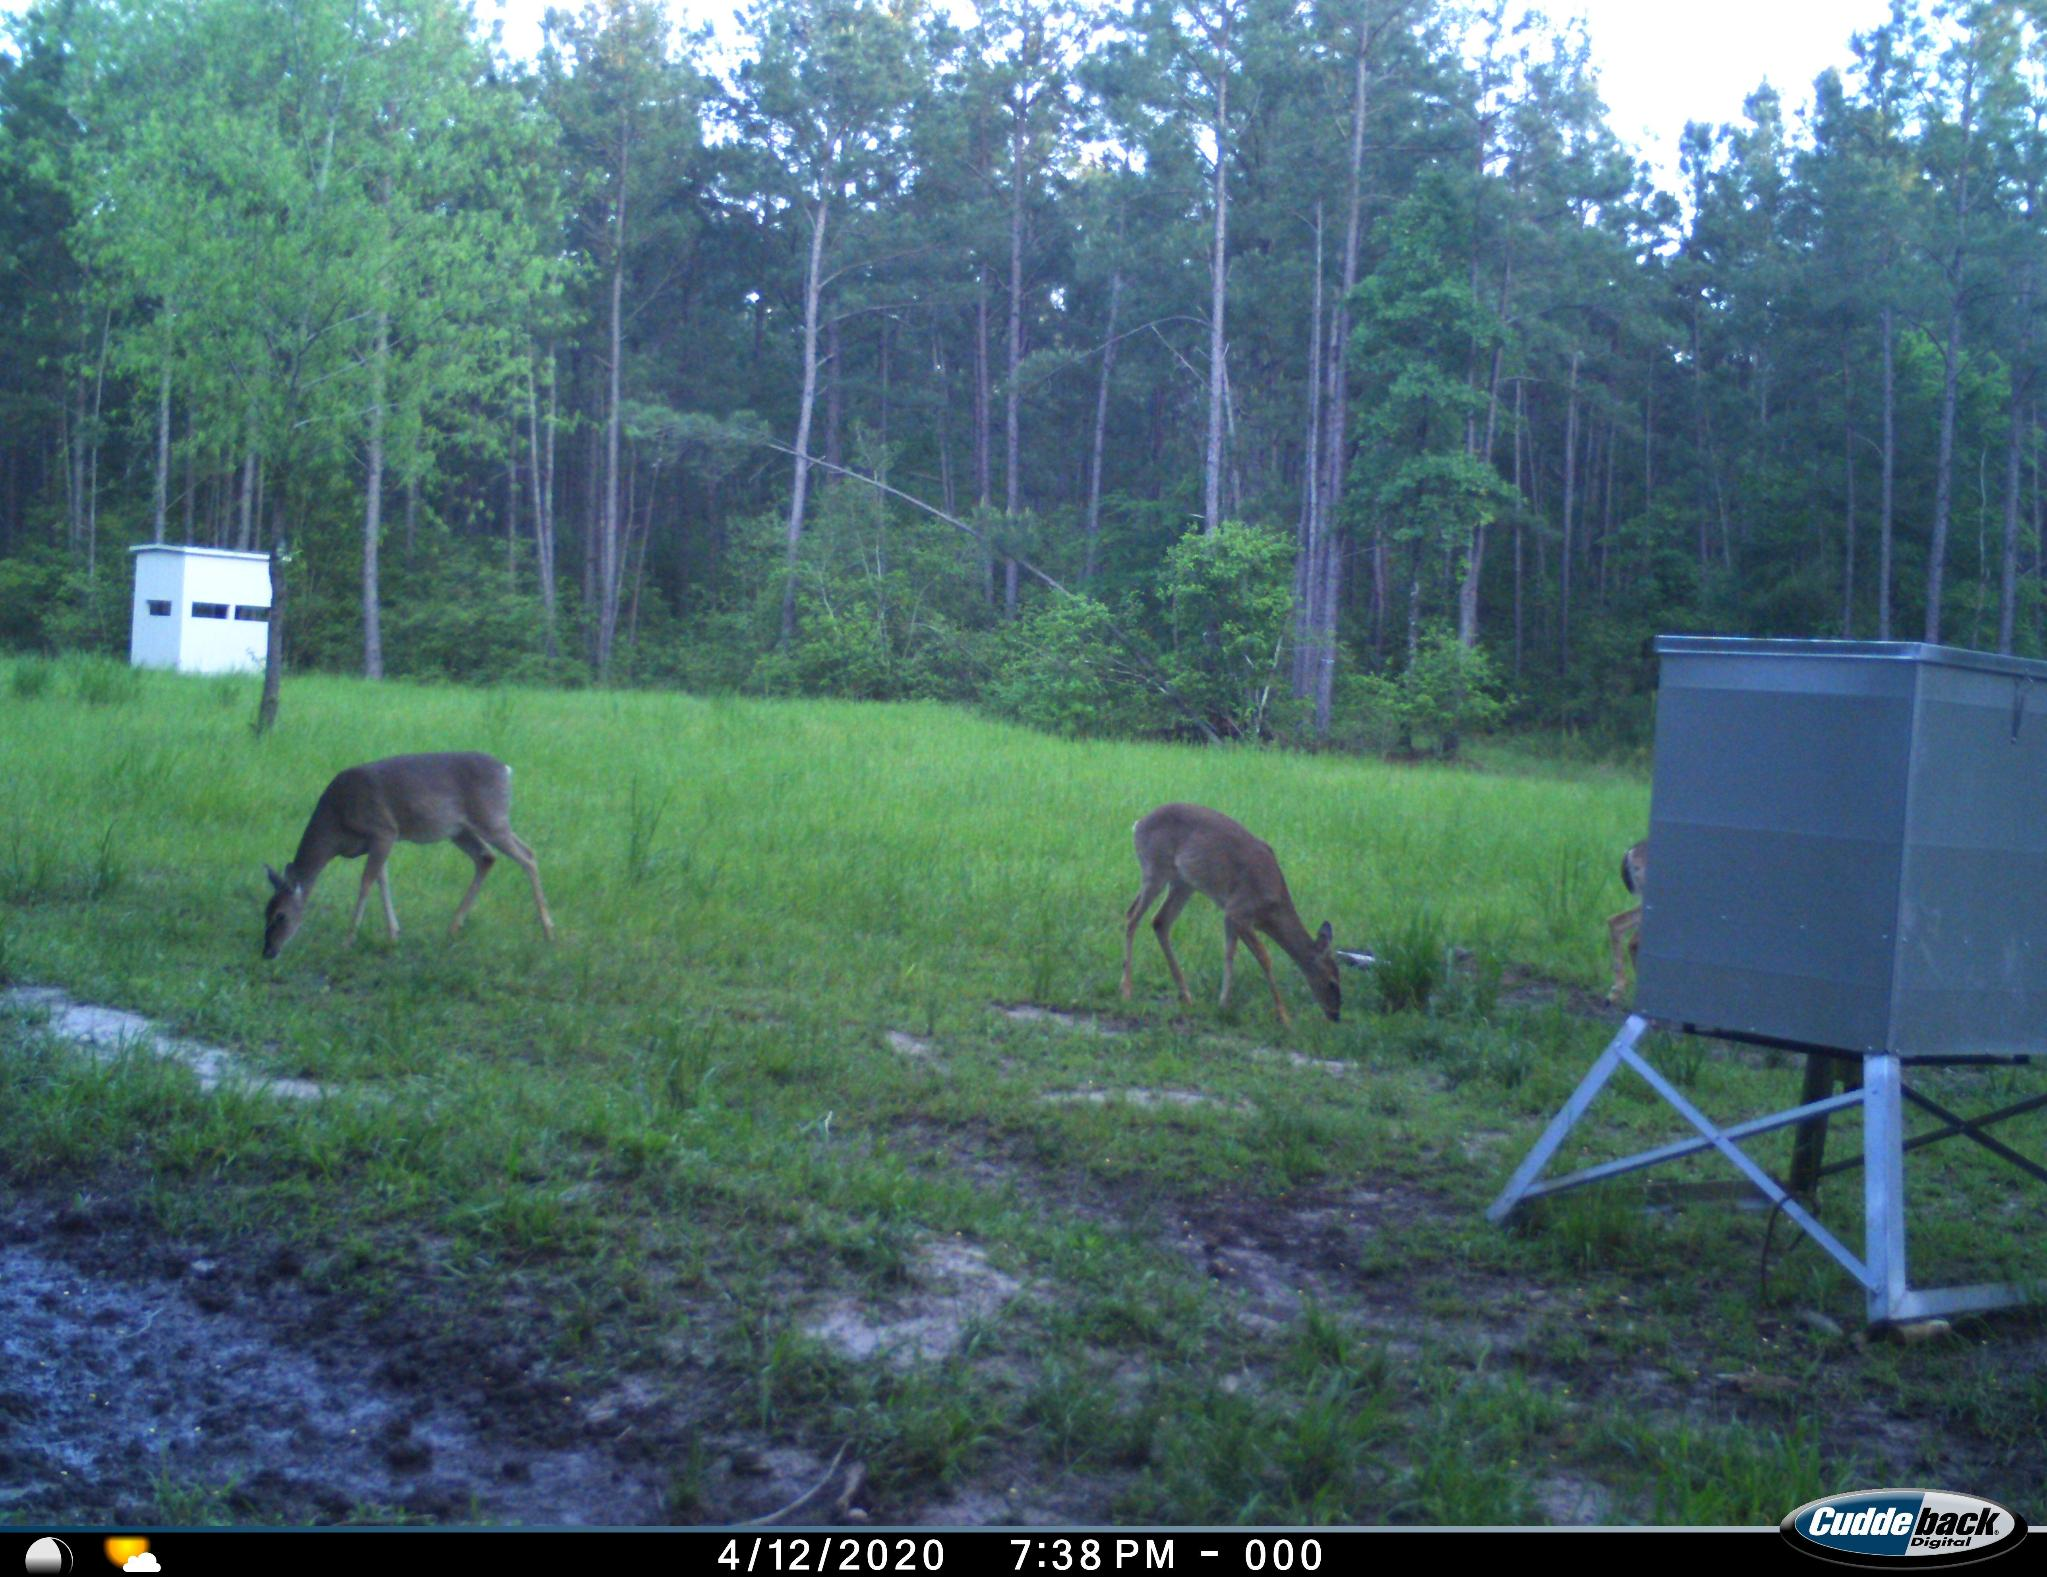Deer: (250, 744, 568, 974), (1110, 797, 1356, 1022), (1600, 822, 1654, 1022)
